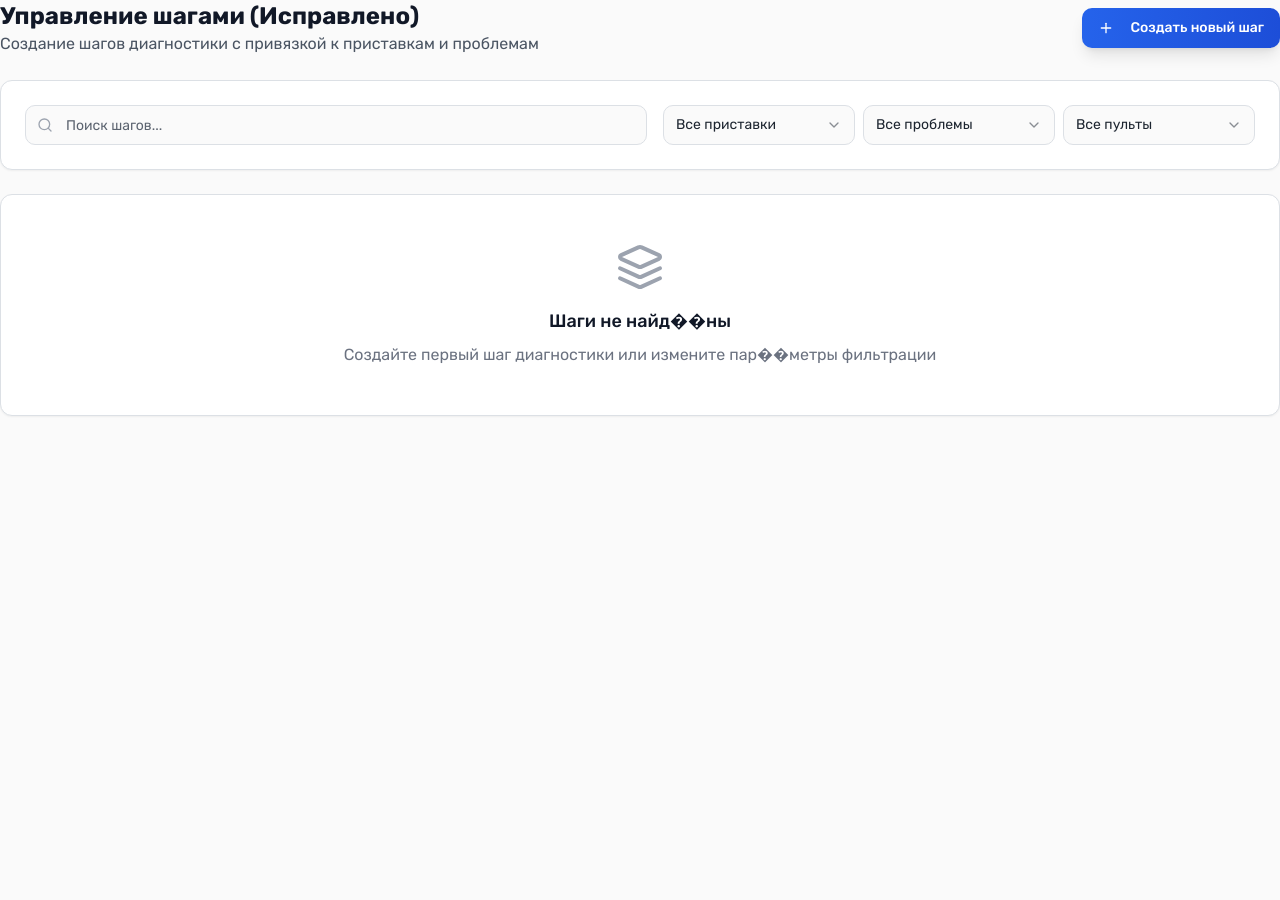
it: StepFormFocus Tests › should maintain input focus during typing
Open create dialog
Click the button "Создать новый шаг".
click(1181, 28)  # box [1082,8,1279,48]
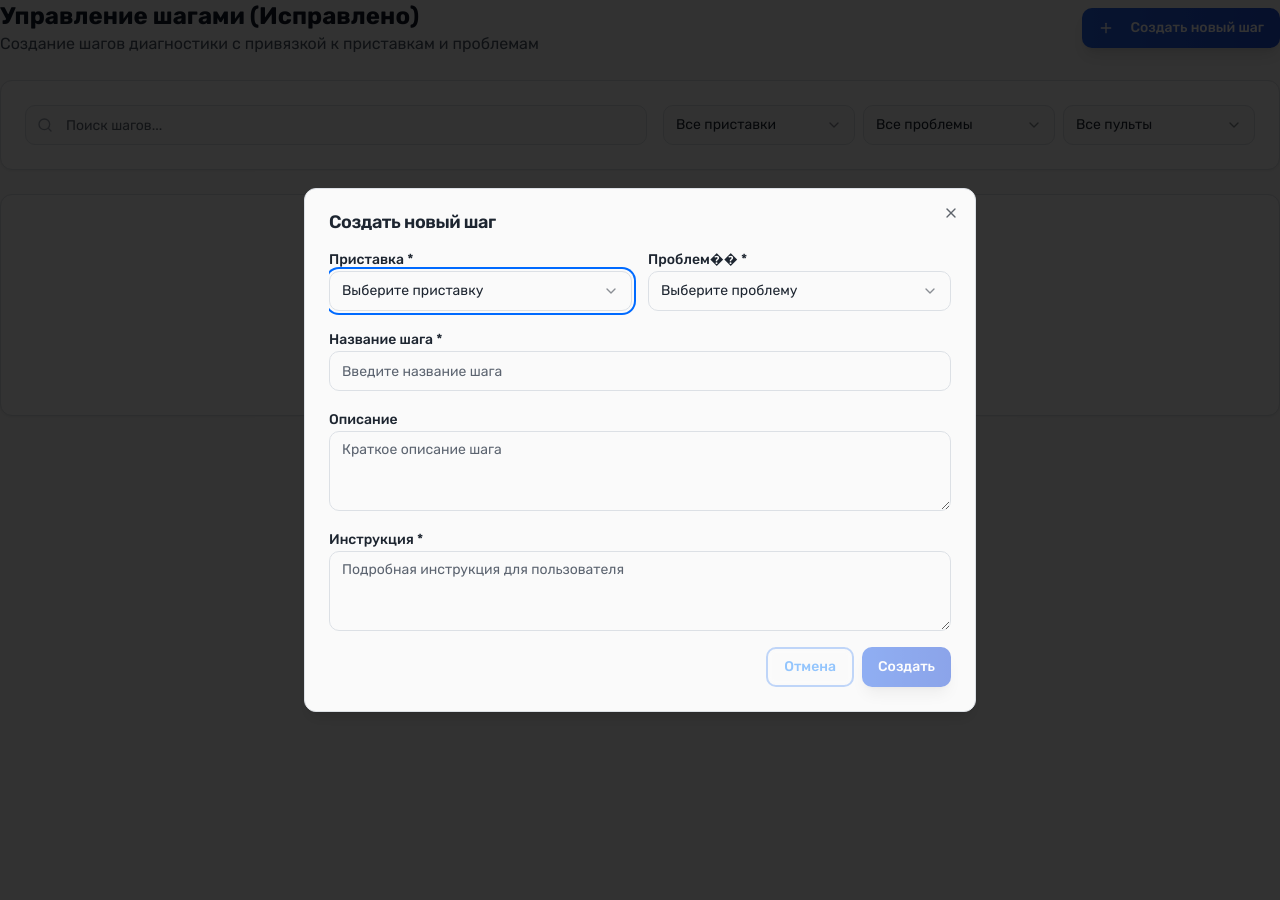
expect the dialog is shown: met, box [304,188,976,712]
expect the field labelled "Название шага *" is shown: met
Focus on input and start typing
Click the field labelled "Название шага *".
click(640, 371)  # box [329,351,951,391]
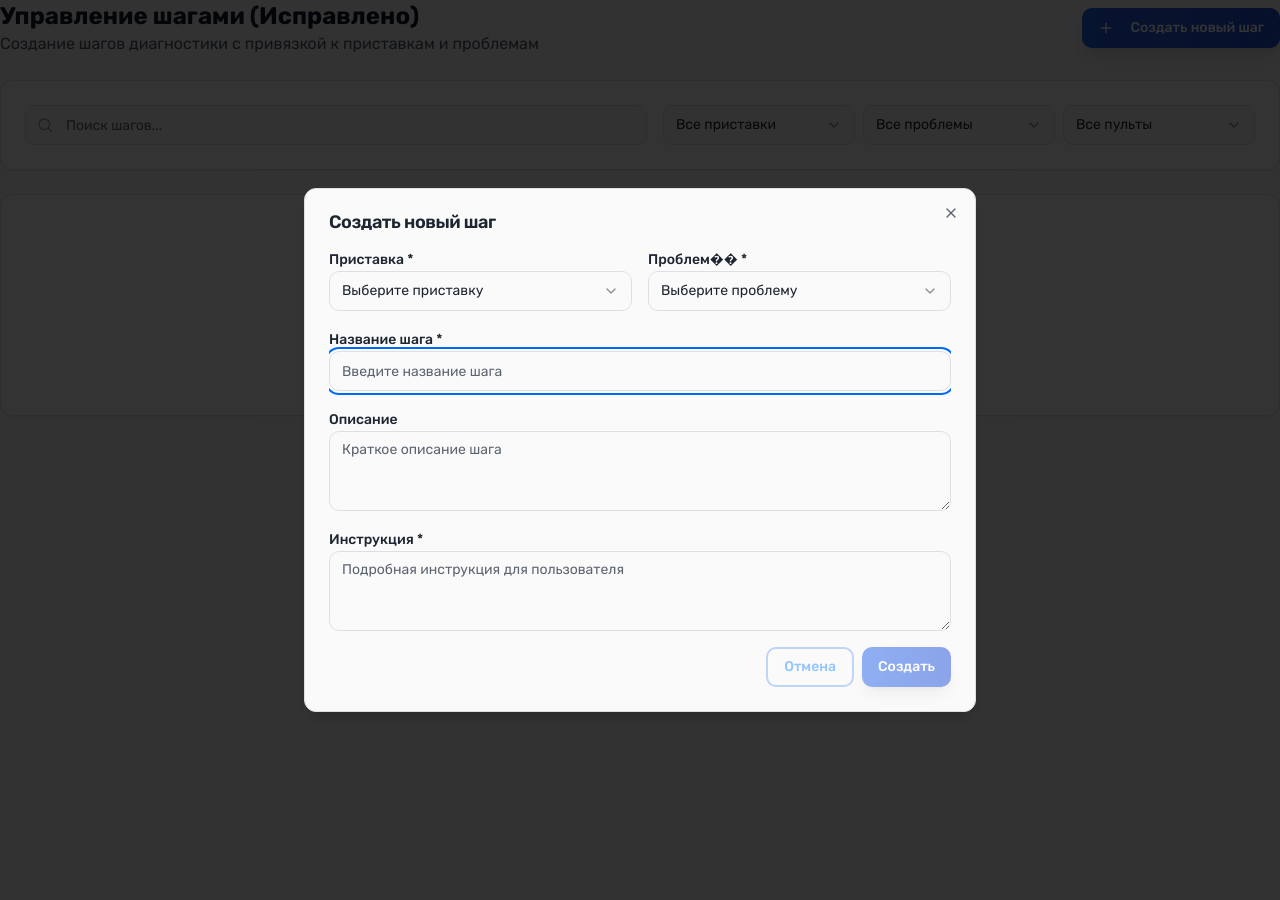
Type multiple words to test continuous focus
Type "First word" into the field labelled "Название шага *".
click(640, 371); type("First word")  # box [329,351,951,391]
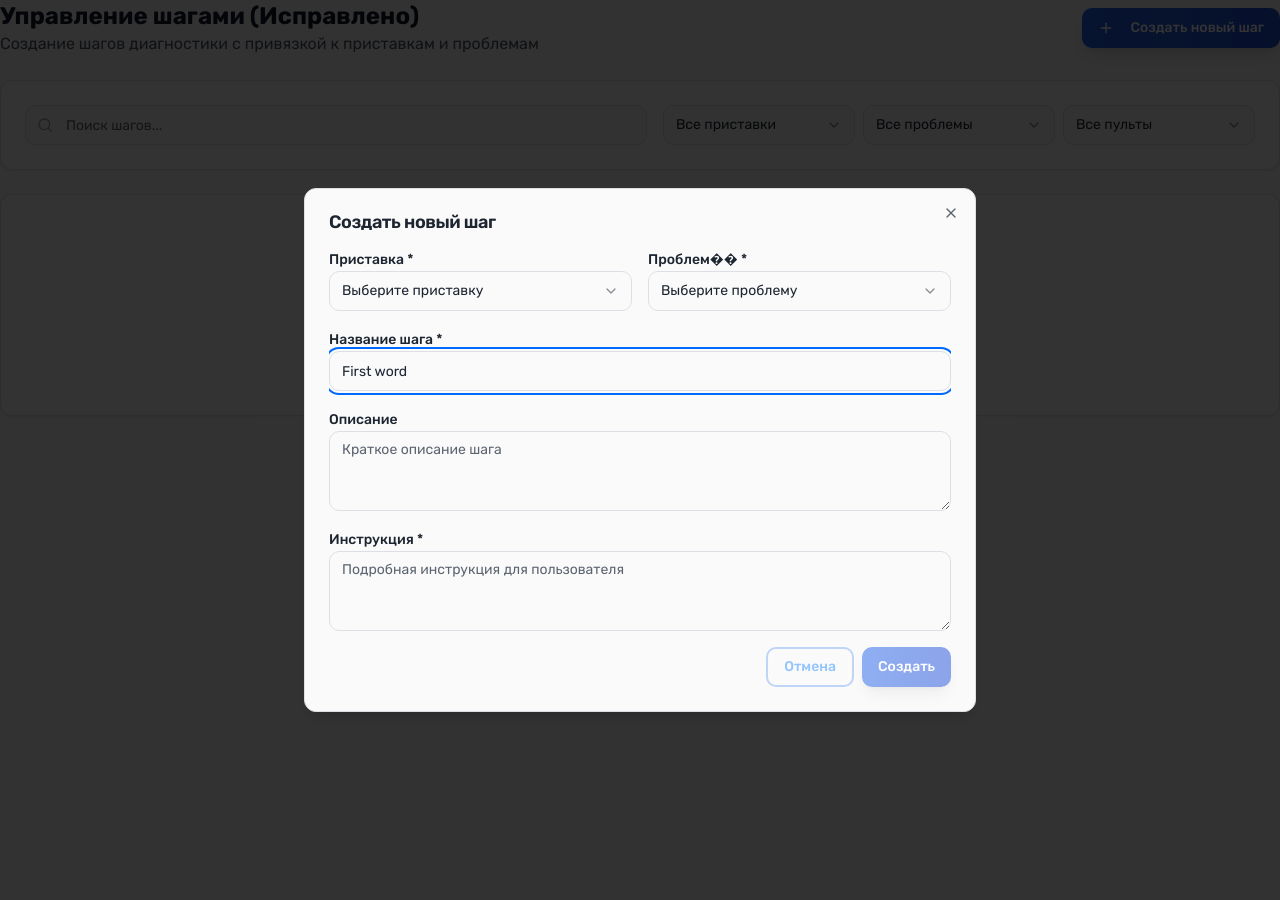
Continue typing to ensure focus is maintained
Type " second word" into the field labelled "Название шага *".
click(640, 371); type(" second word")  # box [329,351,951,391]
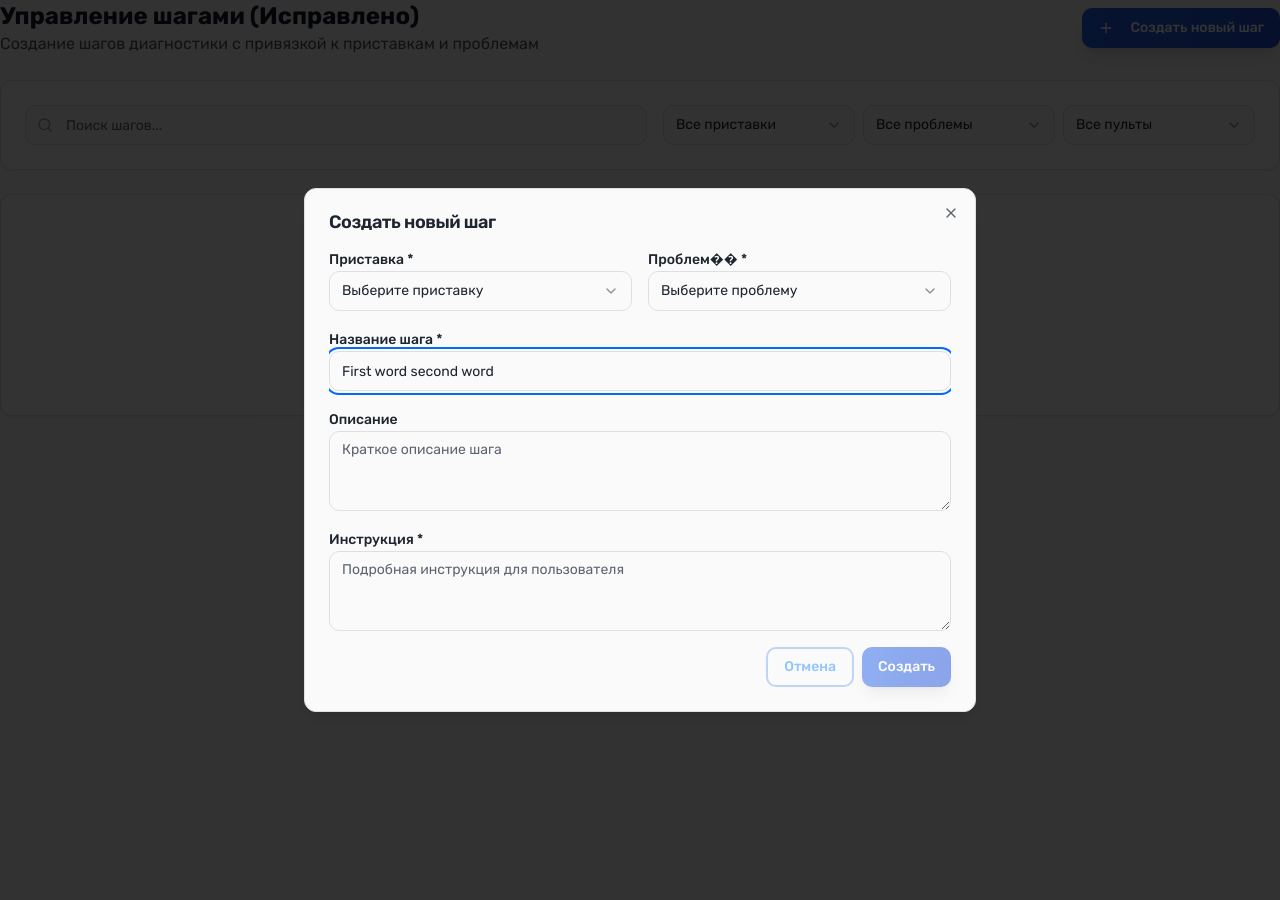
expect the field labelled "Название шага *" holds "First word second word": met
Type more to thoroughly test
Type " third word" into the field labelled "Название шага *".
click(640, 371); type(" third word")  # box [329,351,951,391]
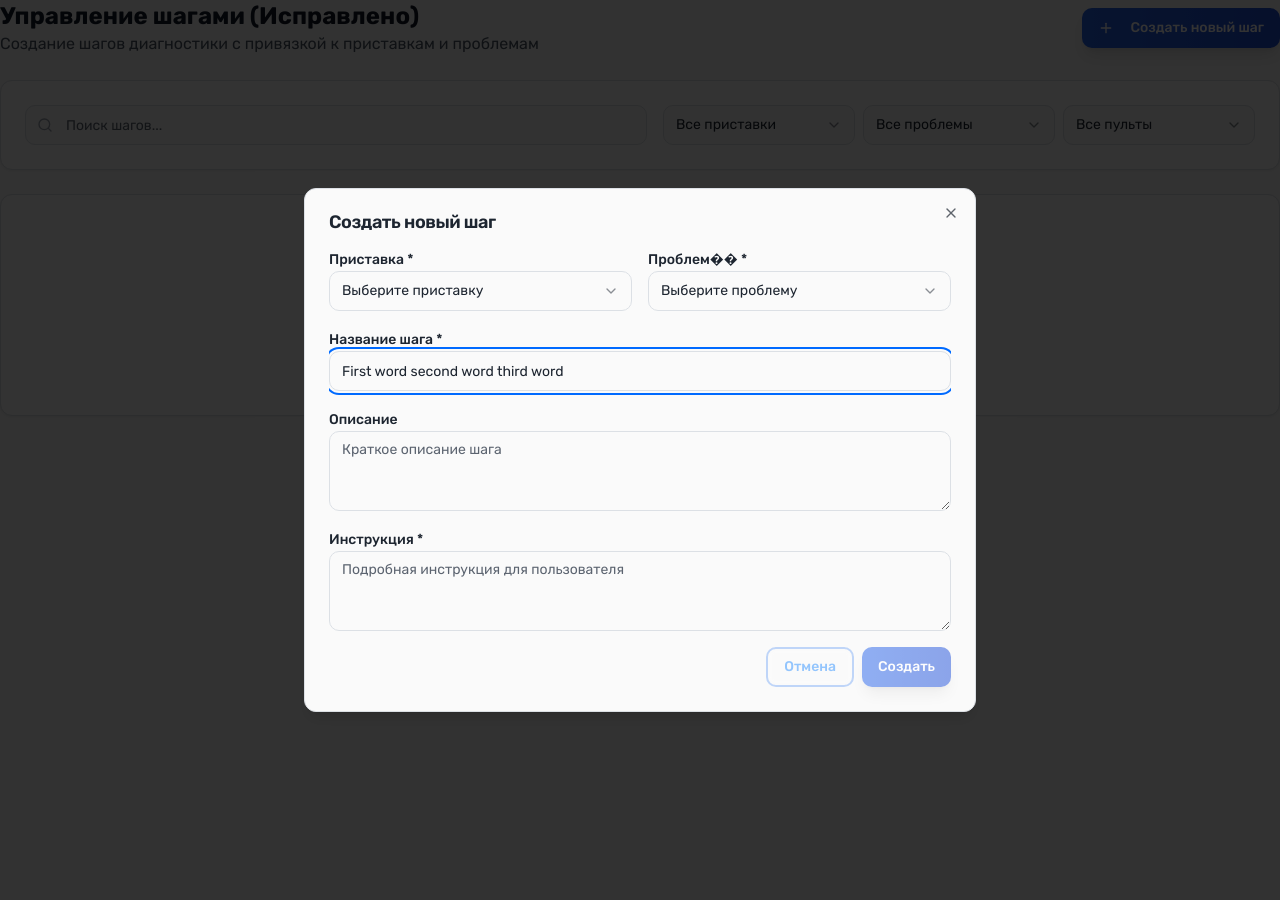
expect the field labelled "Название шага *" holds "First word second word third word": met, box [329,351,951,391]
